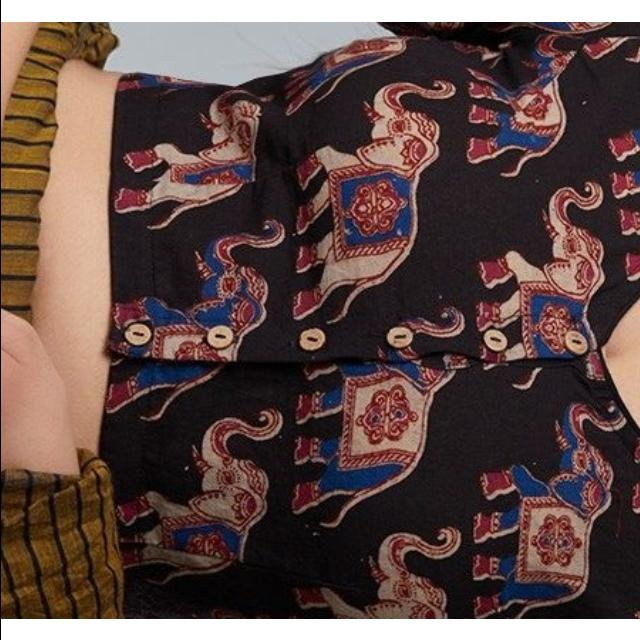cotton: (174, 21, 640, 618)
